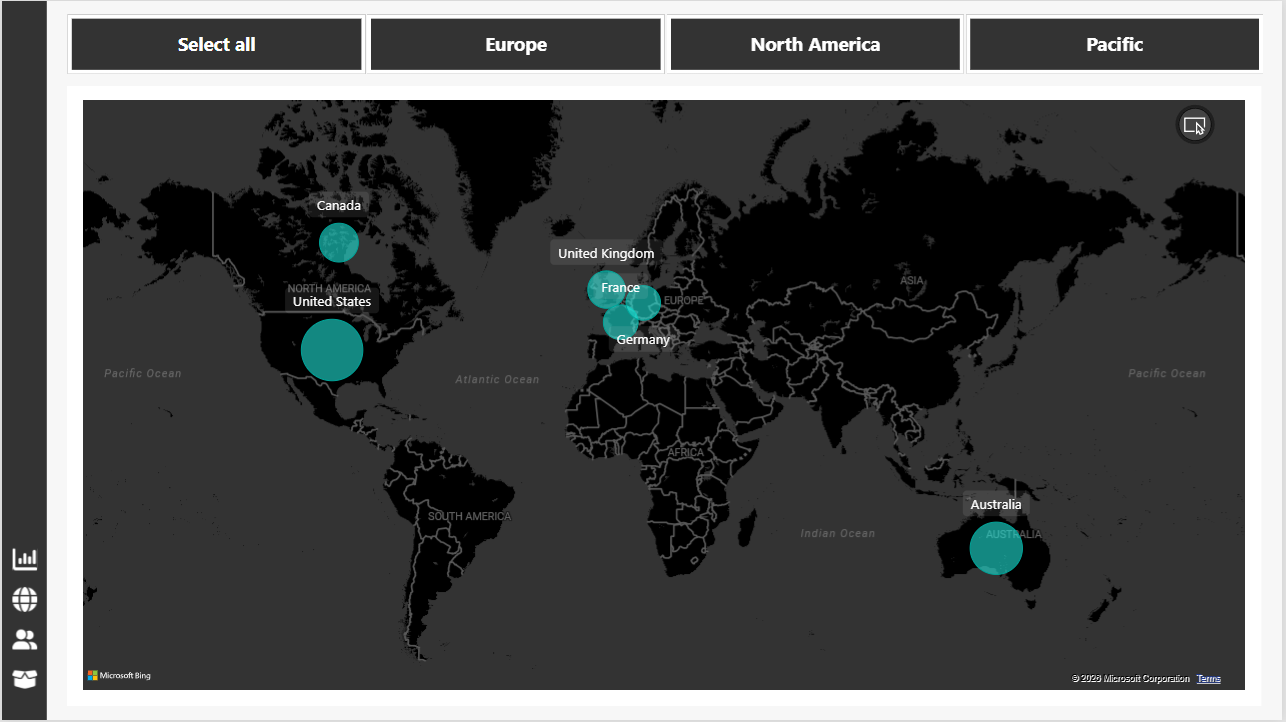

The page's visual inventory and layout, read from the dashboard file:
{"tool":"powerbi","page":{"name":"Map","canvas":[1280,720],"ordinal":1},"visuals":[{"type":"shape","box":[0,0,45,720],"z":0},{"type":"actionButton","box":[0,538.8,45,40],"z":0,"group":"g1"},{"type":"map","fields":{"Category":["Territory Lookup.Country"],"Size":["Measure Table.Total Orders"]},"box":[65.1,84.5,1194.4,620.1],"z":1000},{"type":"actionButton","box":[0,578.8,45,40],"z":1000,"group":"g1"},{"type":"slicer","fields":{"Values":["Territory Lookup.Continent"]},"box":[44.6,10.9,1235.4,63.9],"z":2000},{"type":"actionButton","box":[0,618.8,45,40],"z":2000,"group":"g1"},{"type":"group","id":"g1","title":"Navigation Buttons","box":[0,538.8,45,160],"z":3000},{"type":"actionButton","box":[0,658.8,45,40],"z":3000,"group":"g1"}]}

Visuals, with their boxes on the page's 1280x720 design canvas (x1, y1, x2, y2). These are canvas units, not pixel positions in the 1286x722 screenshot, which may show the page scaled, cropped or inside an application window:
shape: [0, 0, 45, 720]
actionButton: [0, 539, 45, 579]
map - Territory Lookup.Country x Measure Table.Total Orders: [65, 84, 1260, 705]
actionButton: [0, 579, 45, 619]
slicer - Territory Lookup.Continent: [45, 11, 1280, 75]
actionButton: [0, 619, 45, 659]
"Navigation Buttons" group: [0, 539, 45, 699]
actionButton: [0, 659, 45, 699]
